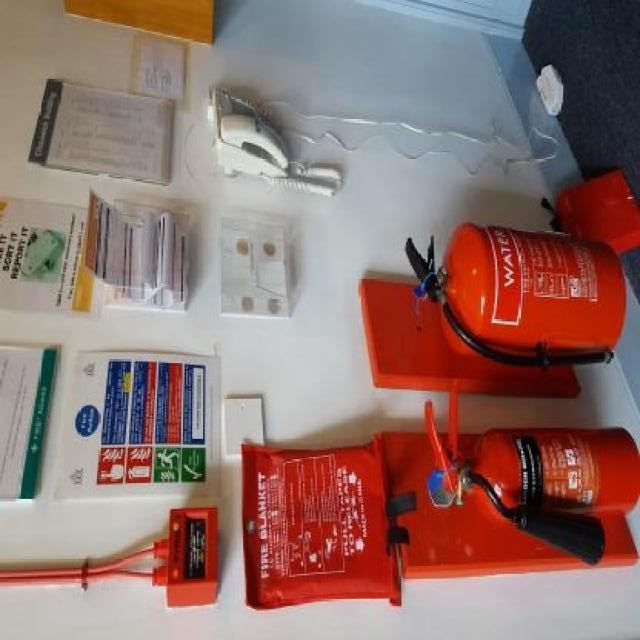fire extinguisher: (423, 379, 639, 566), (405, 223, 626, 371)
